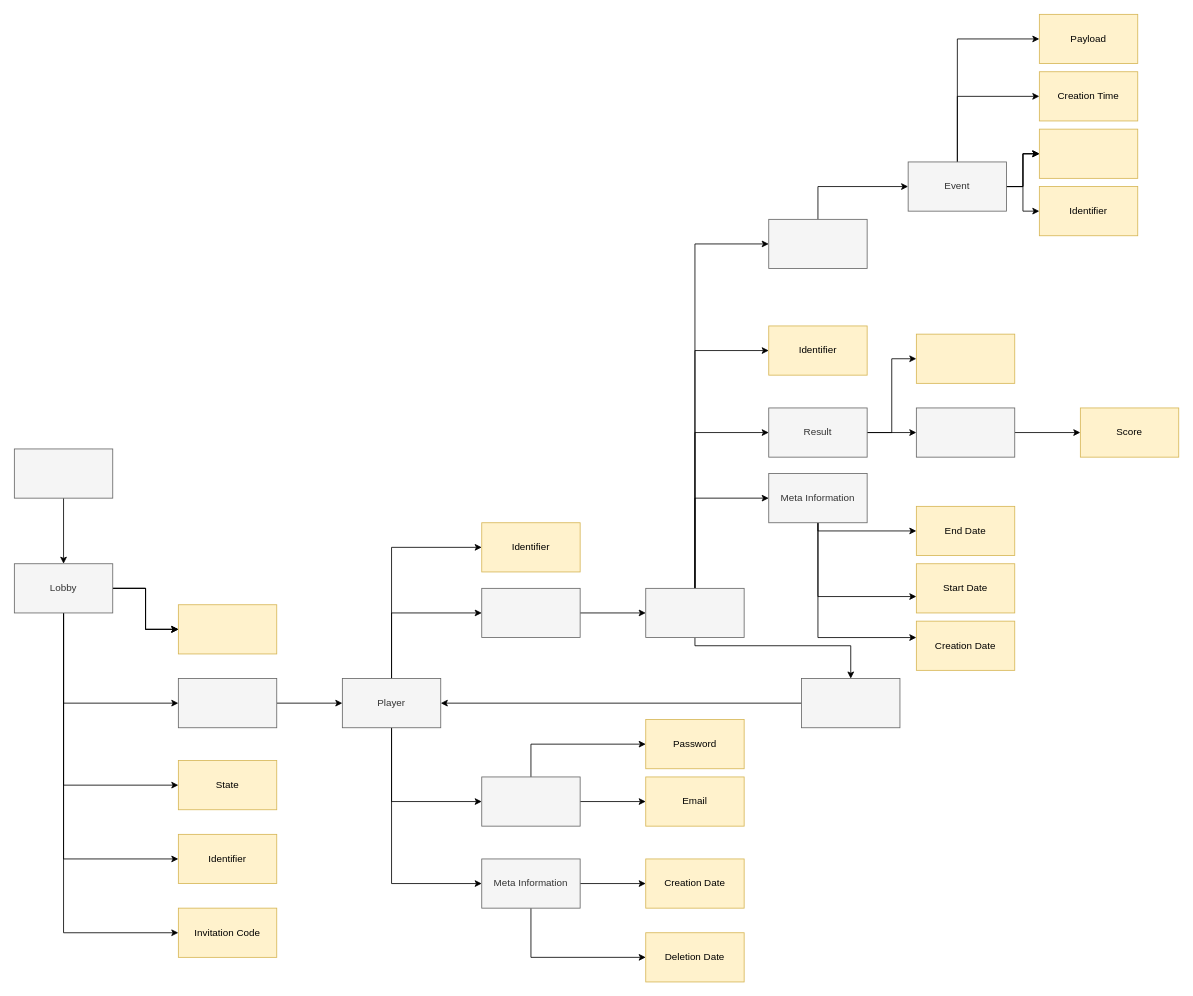
The diagram is 1193 pixels wide and 996 high, and some of its shapes have lost their labels. The shapes that lost their labels are listed below. From the top down, each one's centre as x and y in pixels, then its label:
point (1088, 153): Type
point (817, 244): Game Events
point (965, 358): Winner
point (965, 432): Scores
point (63, 473): Lobby List
point (227, 629): Location
point (530, 613): Games History
point (694, 613): Game History
point (227, 703): Players List
point (850, 703): Participants
point (530, 801): Login Information
